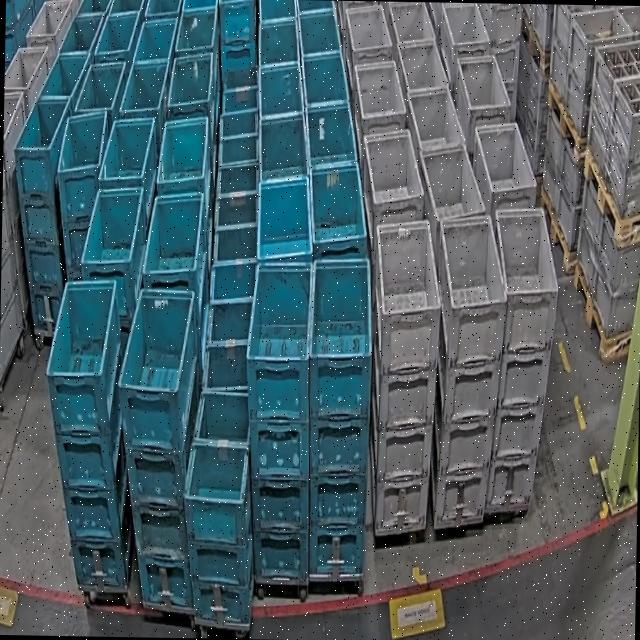4G: (429, 211, 508, 526), (483, 204, 560, 512), (368, 216, 442, 534)
B4: (40, 277, 136, 588), (114, 286, 202, 610), (240, 262, 314, 582), (302, 256, 374, 576), (12, 95, 72, 336), (54, 107, 110, 280)
B8: (179, 390, 257, 627)
